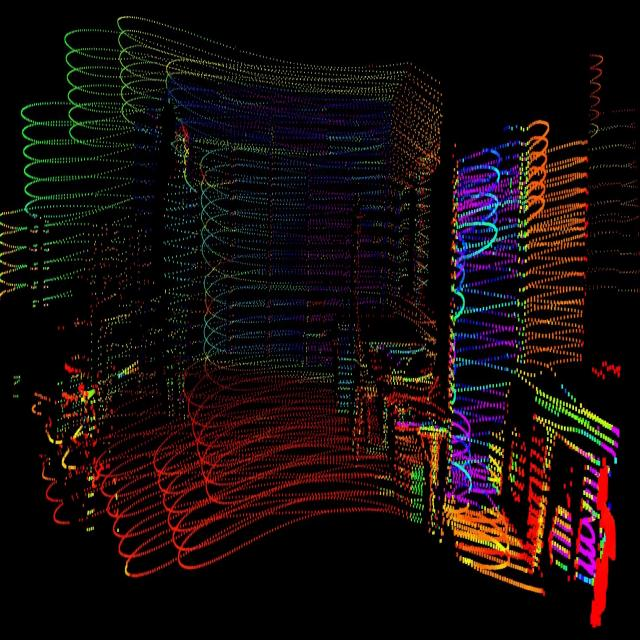human: (152, 101, 208, 430)
